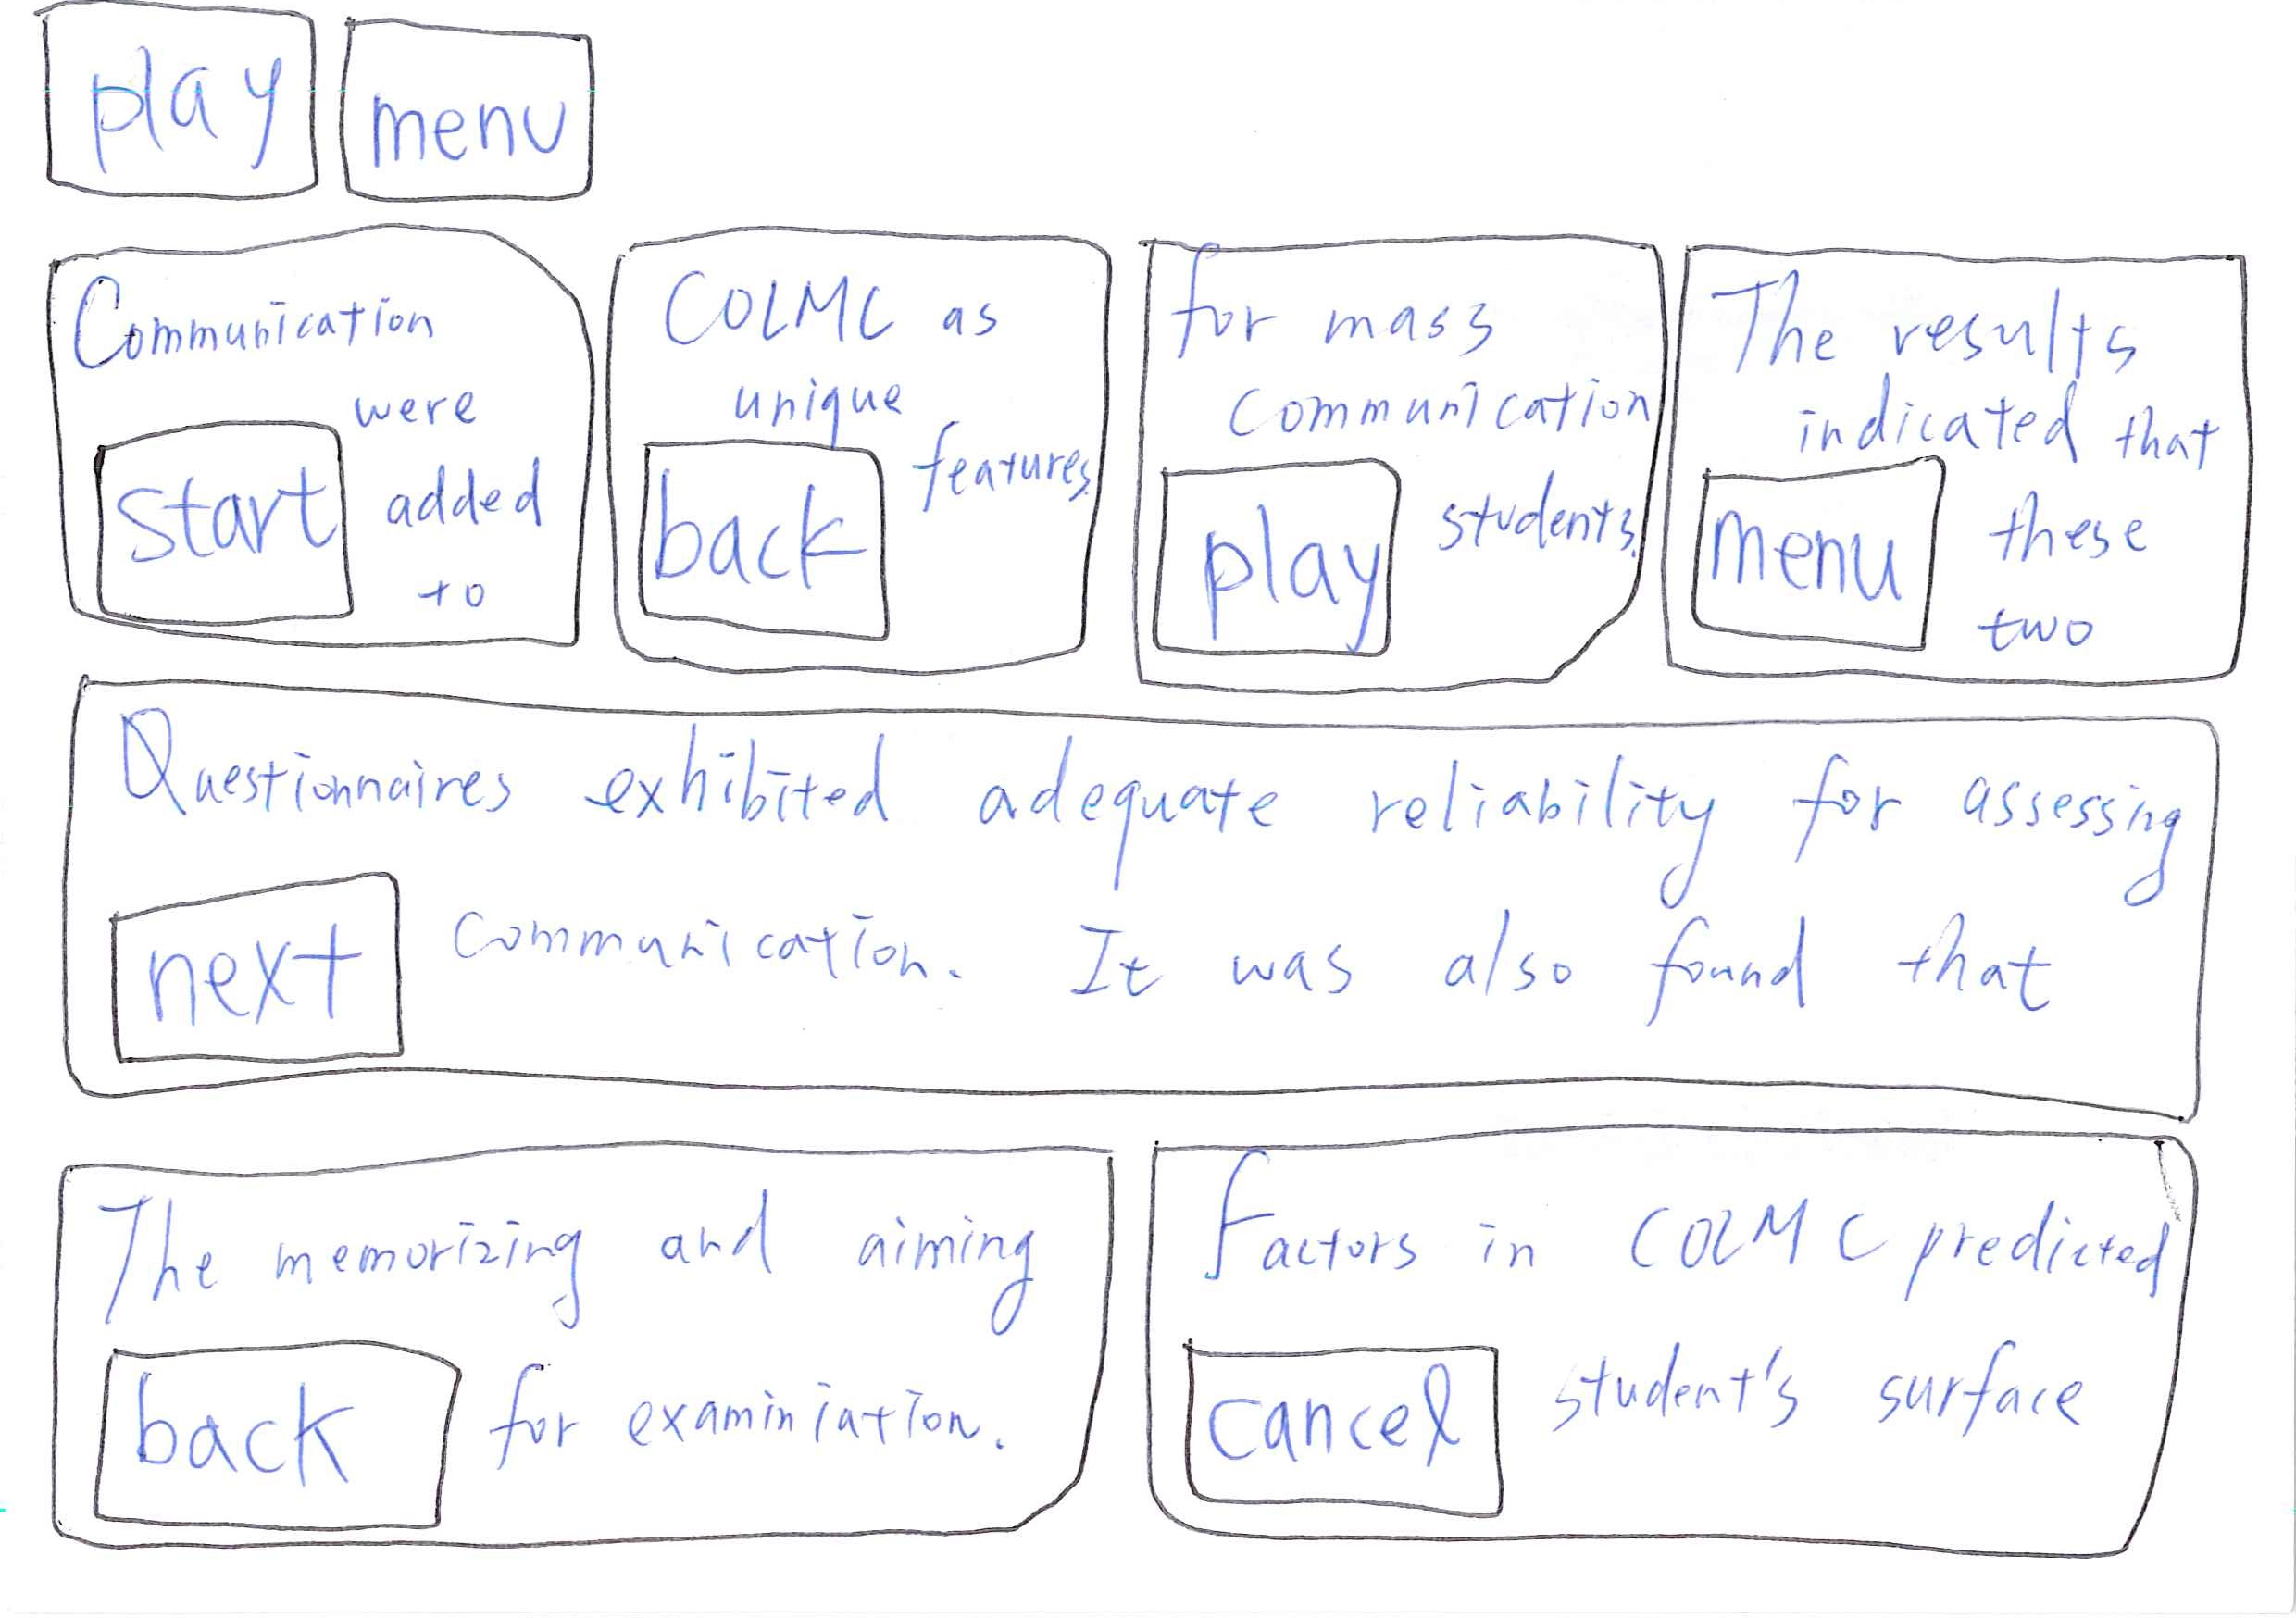back: (72, 1324, 497, 1555), (608, 424, 916, 662)
cancel: (1177, 1317, 1532, 1543)
double: (1110, 1107, 2236, 1579), (21, 1122, 1128, 1565)
menu: (1659, 459, 1965, 669), (331, 2, 608, 210)
next: (86, 858, 434, 1073)
play: (1117, 448, 1427, 678), (23, 2, 335, 210)
quadruple: (1652, 217, 2278, 718), (1117, 203, 1685, 706), (21, 203, 613, 683), (594, 214, 1133, 700)
row: (2, 203, 2294, 697), (2, 671, 2296, 1142), (2, 1110, 2296, 1581), (4, 2, 2266, 224)
single: (2, 678, 2254, 1140)
small-title: (95, 690, 2138, 849), (1221, 1156, 2121, 1303), (103, 1196, 1068, 1326), (98, 280, 483, 382), (687, 254, 995, 359), (1737, 306, 2142, 378), (1179, 285, 1515, 350)
start: (60, 392, 359, 644)
text: (476, 846, 2089, 1045), (1566, 1348, 2084, 1460), (494, 1361, 1009, 1471), (1991, 461, 2201, 657), (1778, 378, 2207, 461), (1201, 368, 1634, 445), (361, 355, 532, 548), (1448, 462, 1629, 564), (739, 368, 1011, 424), (932, 445, 1054, 503)
